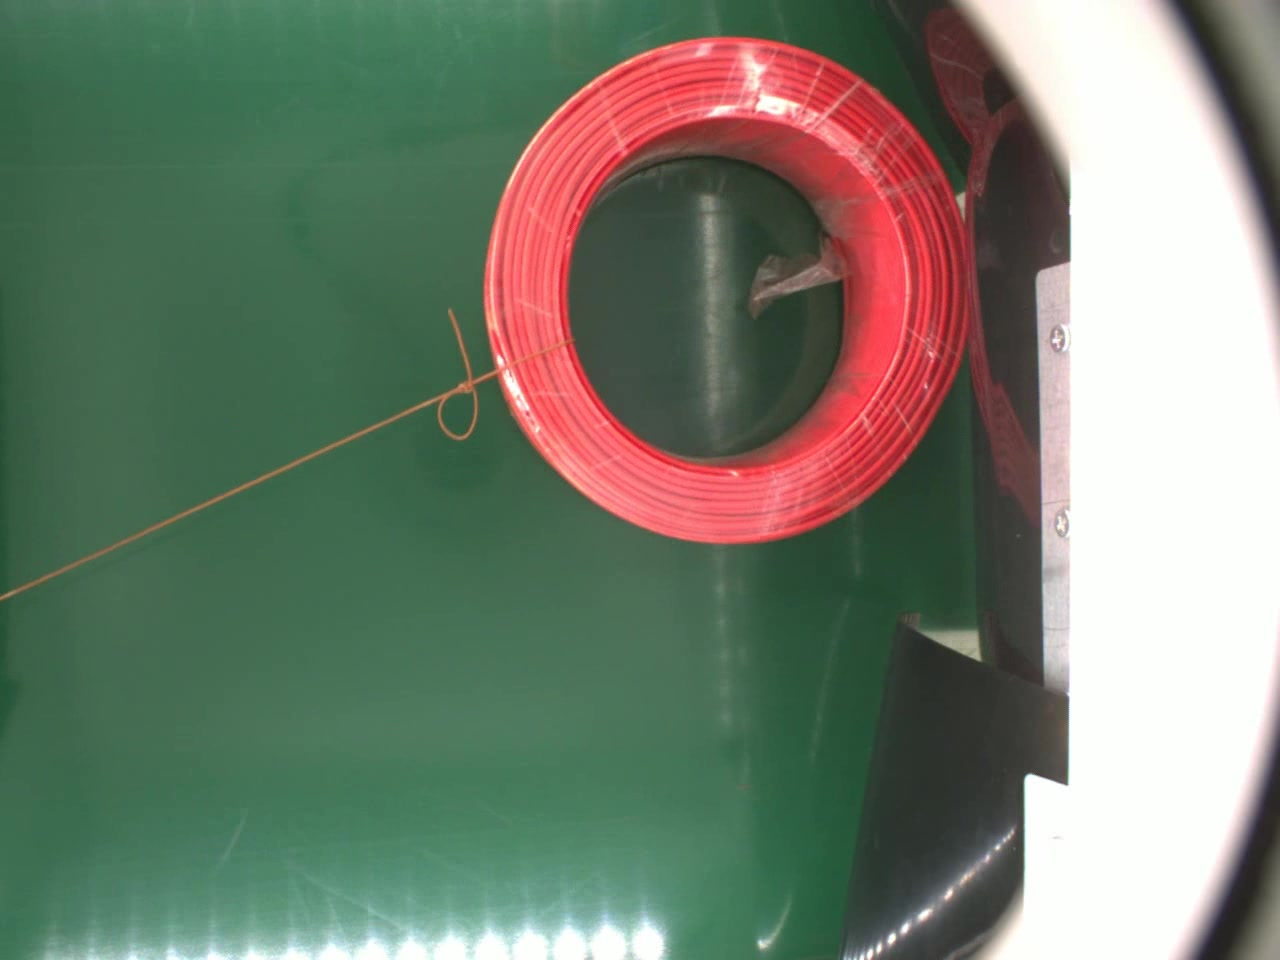red: (479, 33, 975, 547)
